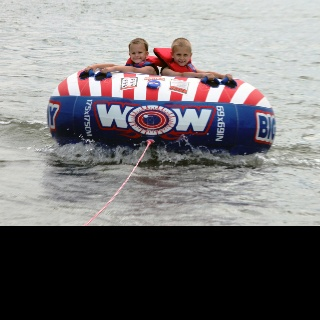without_mask: (128, 44, 148, 63), (172, 46, 191, 66)
